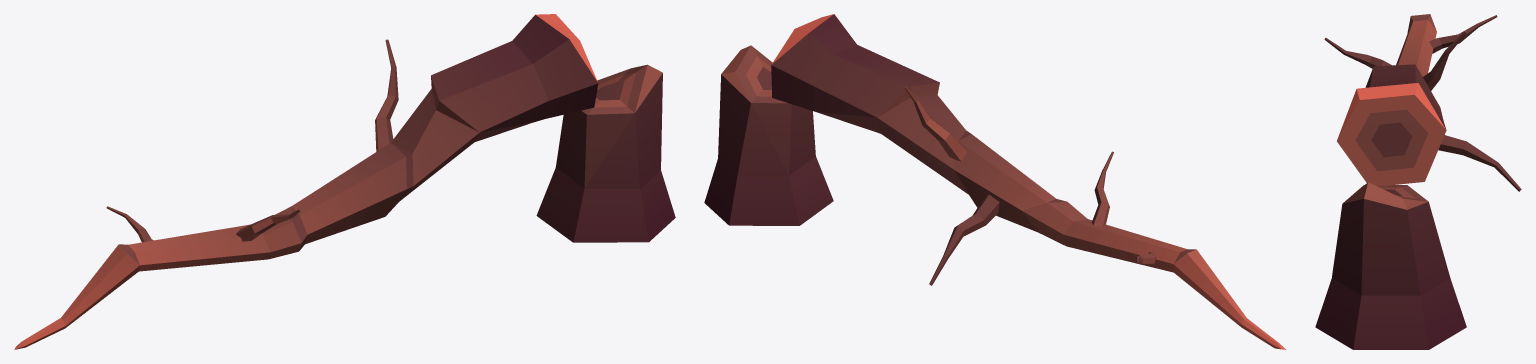
The model's file is pine9.glb.
3 renders of one model, left to right at view 1: azimuth 30°, elevation 25°; view 2: azimuth 150°, elevation 25°; view 3: azimuth 270°, elevation 25°, orthographic. The views are drawn at different scales.
Visible parts, largest first — view 1: pine9; view 2: pine9; view 3: pine9.
Part boxes in pixels (x1,y1,x2,y2): pine9: (14, 14, 675, 349); pine9: (704, 14, 1286, 349); pine9: (1315, 14, 1521, 349).
Size of the model in its own units: 8.11 by 2.64 by 2.25.
Materials: 1 (1 with a texture image).
